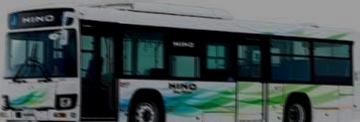bus: (4, 2, 356, 122)
